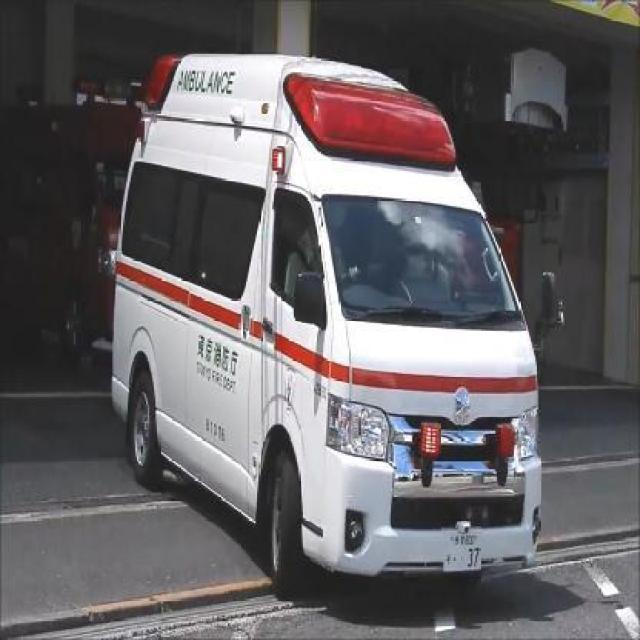emergency: (106, 51, 558, 593)
